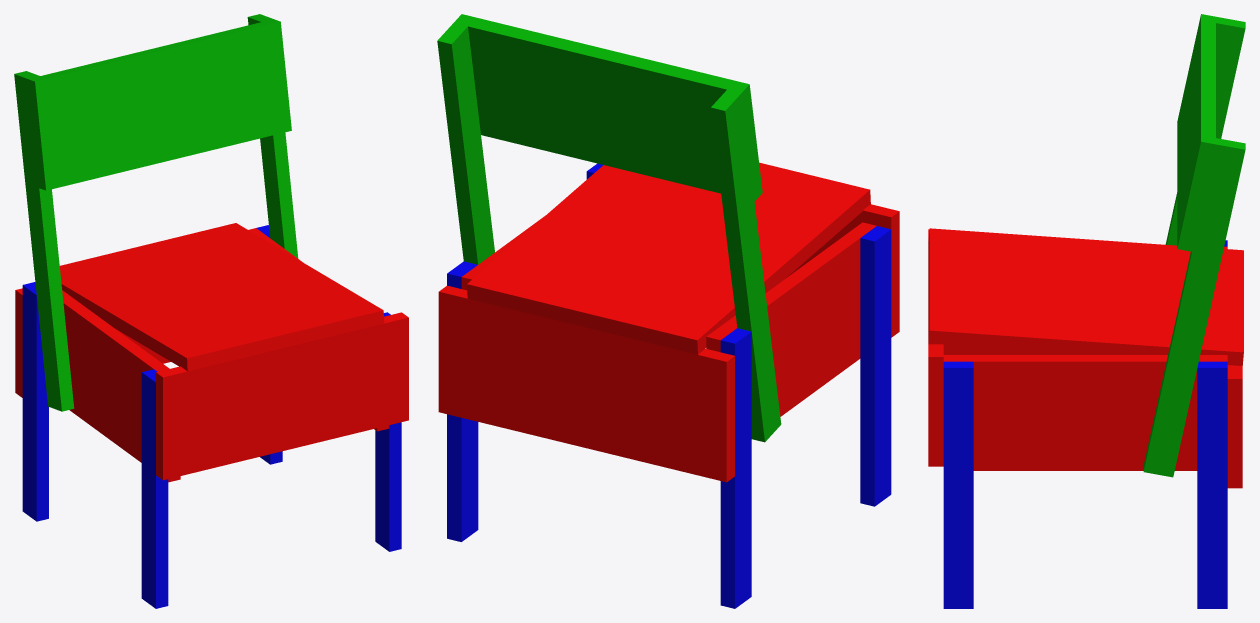
The model's file is result.glb.
3 views of the same model, side by side, from view 1: azimuth 30°, elevation 25°; view 2: azimuth 150°, elevation 25°; view 3: azimuth 270°, elevation 25° (orthographic). The views are drawn at different scales.
Visible parts, largest first — view 1: 6beb4199-0a7c-4d5b-94d3-95a046572157__back rest plank, c3359182-c461-4245-9bbc-47f13af80460__back rest plank, e6e2f936-c2a5-492f-89ed-70a8a30df452__base front, e1260020-6643-4e8b-85d2-625fb41eed7e__base front, 81fb76cb-1d72-4d72-84f8-8720572d8ae9__seat board, 6e4fddb8-c90a-45c7-b25a-e7aa1a803c70__back rest diagonal, 4c428d1a-090f-4ea4-88fb-7e949a5c3638__seat board, dcb1808e-5b27-4f4b-b452-fde6d3b3db74__seat board, 27431db2-2fde-4121-8c14-37fb92ebfa76__seat board, 8285203d-26e4-4d3f-9fed-c568d2e1b363__leg back left, f64e8770-94c8-4896-9383-e197a4889497__base left, bd304998-21a1-4f08-886a-93ad426e3967__leg front left (+4 smaller); view 2: 4e60e8d7-8bca-47fc-aaa6-7c70c0743d10__base back, e9dc7ba4-6361-4b9c-ab15-94973bc158f3__base back, 6beb4199-0a7c-4d5b-94d3-95a046572157__back rest plank, c3359182-c461-4245-9bbc-47f13af80460__back rest plank, 81fb76cb-1d72-4d72-84f8-8720572d8ae9__seat board, 6e4fddb8-c90a-45c7-b25a-e7aa1a803c70__back rest diagonal, 4c428d1a-090f-4ea4-88fb-7e949a5c3638__seat board, 27431db2-2fde-4121-8c14-37fb92ebfa76__seat board, dcb1808e-5b27-4f4b-b452-fde6d3b3db74__seat board, bd304998-21a1-4f08-886a-93ad426e3967__leg front left, c64437b1-9373-4f6d-9104-8cc1756ec529__back rest diagonal, f64e8770-94c8-4896-9383-e197a4889497__base left (+5 smaller); view 3: d3761908-d78b-4308-b137-f1e464f6db63__base right, c64437b1-9373-4f6d-9104-8cc1756ec529__back rest diagonal, dcb1808e-5b27-4f4b-b452-fde6d3b3db74__seat board, cee2fe56-87fc-46cc-817d-16c31402c409__base right, ce206433-8b88-4e2a-8dc3-e76001a599d5__leg front right, 3d175a59-c832-41a8-94ba-12daf11de34e__leg back right, 27431db2-2fde-4121-8c14-37fb92ebfa76__seat board, 4c428d1a-090f-4ea4-88fb-7e949a5c3638__seat board, 81fb76cb-1d72-4d72-84f8-8720572d8ae9__seat board, 6beb4199-0a7c-4d5b-94d3-95a046572157__back rest plank, 6e4fddb8-c90a-45c7-b25a-e7aa1a803c70__back rest diagonal, c3359182-c461-4245-9bbc-47f13af80460__back rest plank (+5 smaller).
Boxes of the visible parts, x1,y1,x2,y2 form: 6beb4199-0a7c-4d5b-94d3-95a046572157__back rest plank: (28, 19, 286, 135); c3359182-c461-4245-9bbc-47f13af80460__back rest plank: (33, 76, 291, 190); e6e2f936-c2a5-492f-89ed-70a8a30df452__base front: (156, 312, 408, 428); e1260020-6643-4e8b-85d2-625fb41eed7e__base front: (156, 369, 408, 480); 81fb76cb-1d72-4d72-84f8-8720572d8ae9__seat board: (59, 259, 236, 371); 6e4fddb8-c90a-45c7-b25a-e7aa1a803c70__back rest diagonal: (14, 71, 74, 411); 4c428d1a-090f-4ea4-88fb-7e949a5c3638__seat board: (89, 247, 285, 359); dcb1808e-5b27-4f4b-b452-fde6d3b3db74__seat board: (187, 223, 384, 335); 27431db2-2fde-4121-8c14-37fb92ebfa76__seat board: (138, 235, 334, 347); 8285203d-26e4-4d3f-9fed-c568d2e1b363__leg back left: (22, 282, 48, 521); f64e8770-94c8-4896-9383-e197a4889497__base left: (62, 290, 169, 411); bd304998-21a1-4f08-886a-93ad426e3967__leg front left: (141, 369, 168, 608); 4e60e8d7-8bca-47fc-aaa6-7c70c0743d10__base back: (438, 285, 734, 421); e9dc7ba4-6361-4b9c-ab15-94973bc158f3__base back: (438, 352, 734, 482); 6beb4199-0a7c-4d5b-94d3-95a046572157__back rest plank: (454, 14, 756, 146); c3359182-c461-4245-9bbc-47f13af80460__back rest plank: (474, 81, 762, 201); 81fb76cb-1d72-4d72-84f8-8720572d8ae9__seat board: (639, 175, 870, 354); 6e4fddb8-c90a-45c7-b25a-e7aa1a803c70__back rest diagonal: (711, 89, 781, 442); 4c428d1a-090f-4ea4-88fb-7e949a5c3638__seat board: (582, 162, 812, 340); 27431db2-2fde-4121-8c14-37fb92ebfa76__seat board: (524, 179, 718, 326); dcb1808e-5b27-4f4b-b452-fde6d3b3db74__seat board: (467, 165, 660, 312); bd304998-21a1-4f08-886a-93ad426e3967__leg front left: (860, 226, 891, 506); c64437b1-9373-4f6d-9104-8cc1756ec529__back rest diagonal: (437, 23, 494, 264); f64e8770-94c8-4896-9383-e197a4889497__base left: (706, 222, 876, 361); d3761908-d78b-4308-b137-f1e464f6db63__base right: (943, 355, 1227, 416); c64437b1-9373-4f6d-9104-8cc1756ec529__back rest diagonal: (1143, 138, 1245, 477); dcb1808e-5b27-4f4b-b452-fde6d3b3db74__seat board: (928, 305, 1243, 365); cee2fe56-87fc-46cc-817d-16c31402c409__base right: (973, 416, 1197, 470); ce206433-8b88-4e2a-8dc3-e76001a599d5__leg front right: (943, 361, 973, 608); 3d175a59-c832-41a8-94ba-12daf11de34e__leg back right: (1197, 361, 1227, 608); 27431db2-2fde-4121-8c14-37fb92ebfa76__seat board: (928, 279, 1243, 326); 4c428d1a-090f-4ea4-88fb-7e949a5c3638__seat board: (928, 254, 1243, 301); 81fb76cb-1d72-4d72-84f8-8720572d8ae9__seat board: (928, 228, 1243, 275); 6beb4199-0a7c-4d5b-94d3-95a046572157__back rest plank: (1189, 14, 1215, 197); 6e4fddb8-c90a-45c7-b25a-e7aa1a803c70__back rest diagonal: (1165, 16, 1245, 245); c3359182-c461-4245-9bbc-47f13af80460__back rest plank: (1177, 68, 1203, 251).
Size of the model in its own units: 500 by 853 by 525.
